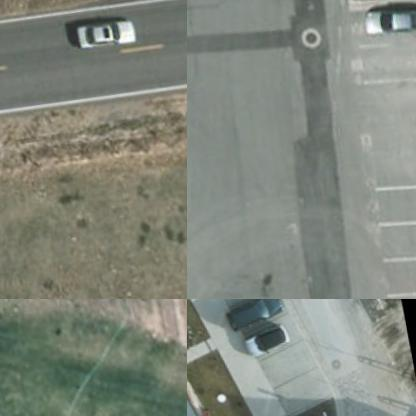car: (72, 13, 138, 51), (360, 0, 415, 37), (242, 320, 294, 356), (224, 299, 284, 327)
